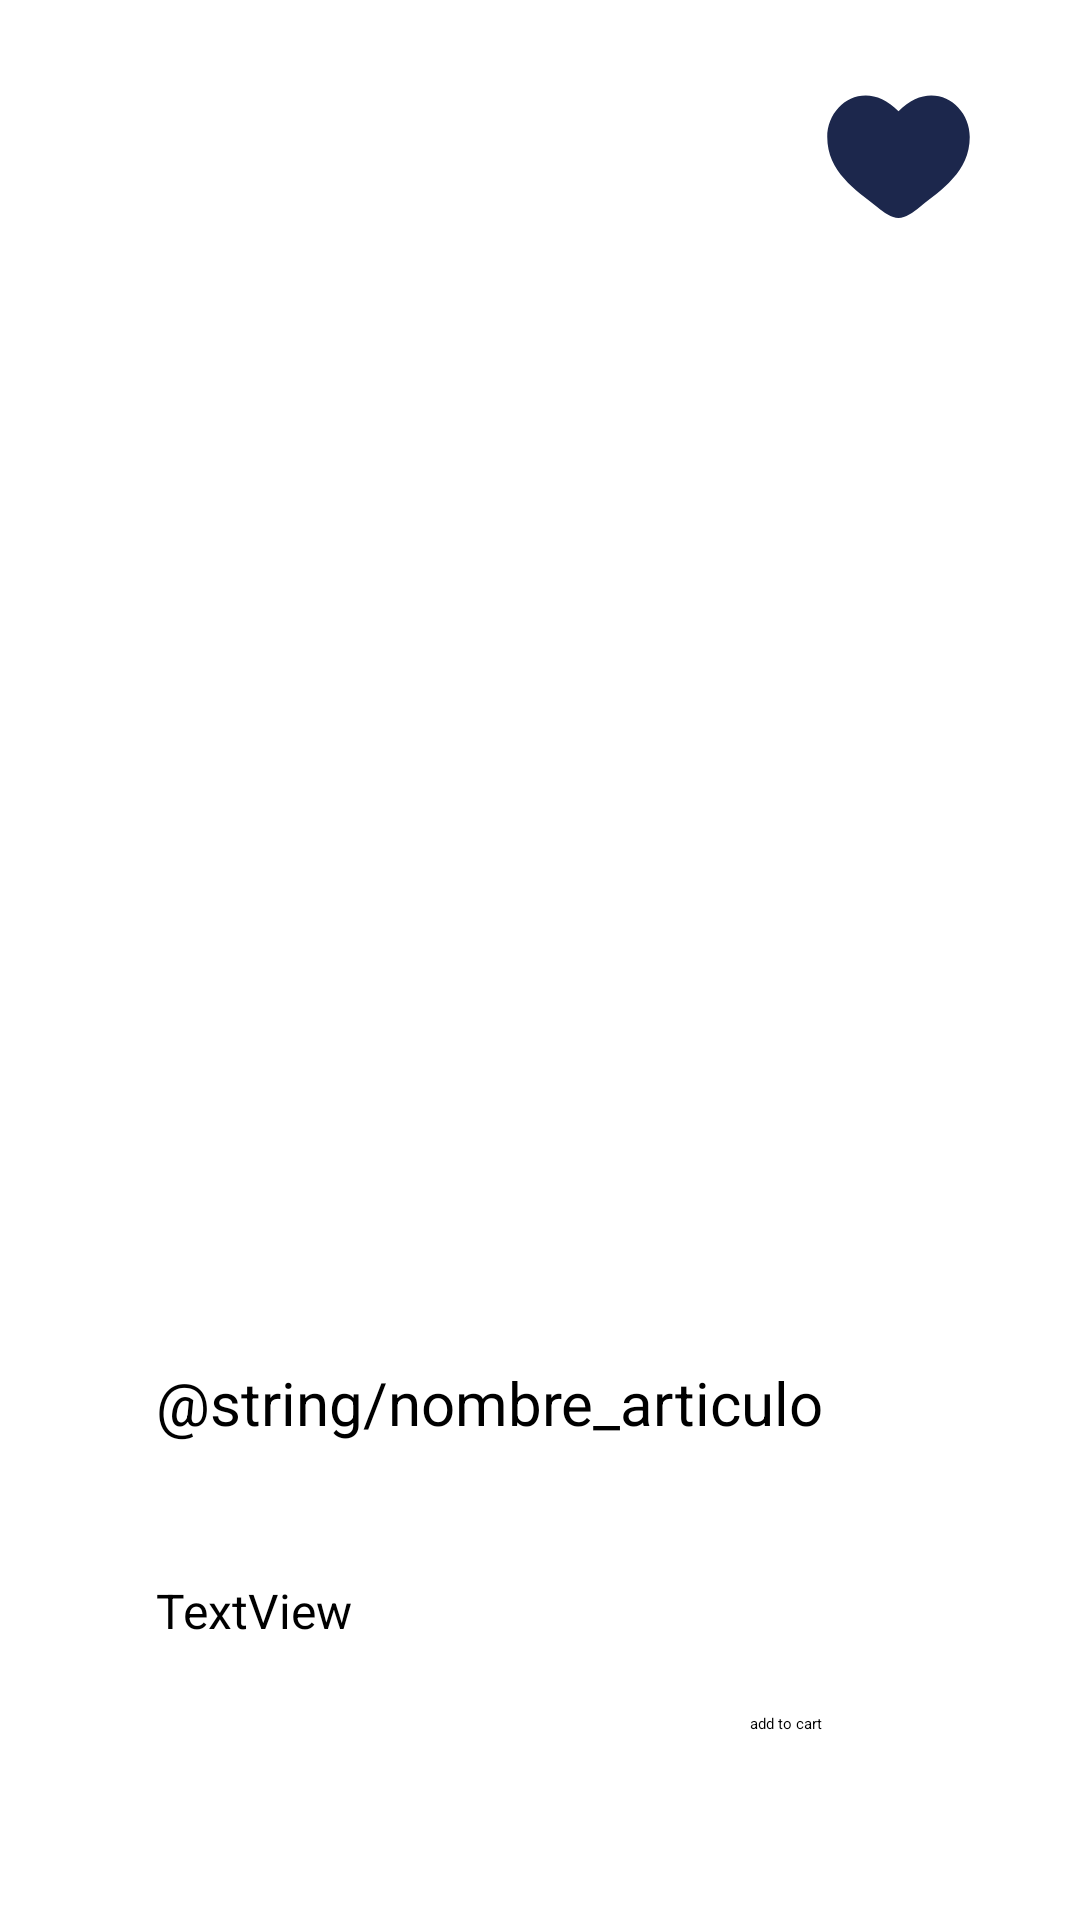

Where icons sit on this 1080×1920 app screen, as rect(x1, y1, x2, y2):
Guardar: rect(827, 95, 970, 218)
